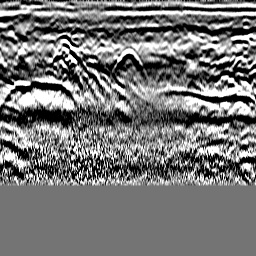cavity: (114, 46, 142, 72)
